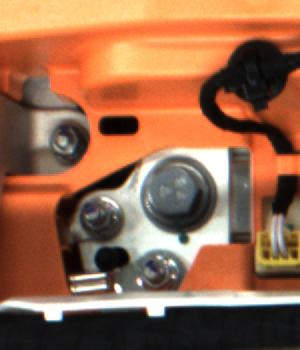nut_b: (135, 161, 218, 234)
screw_s: (82, 196, 120, 239), (136, 254, 179, 290), (46, 121, 80, 159)
